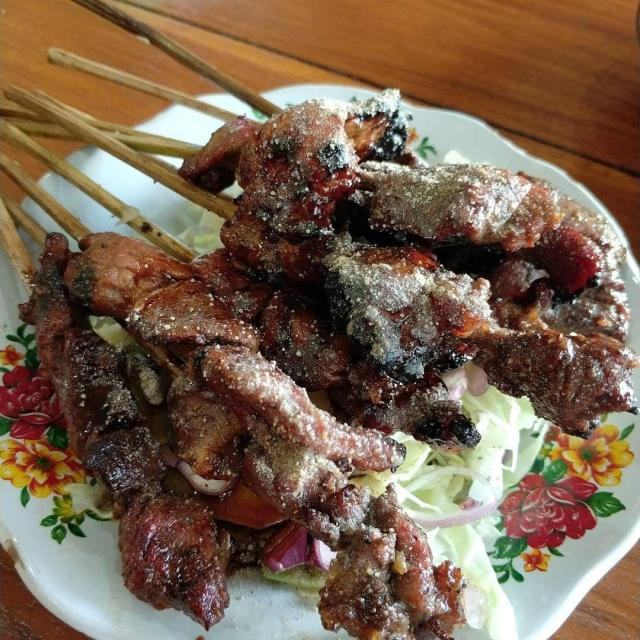Sate: (0, 49, 609, 556)
